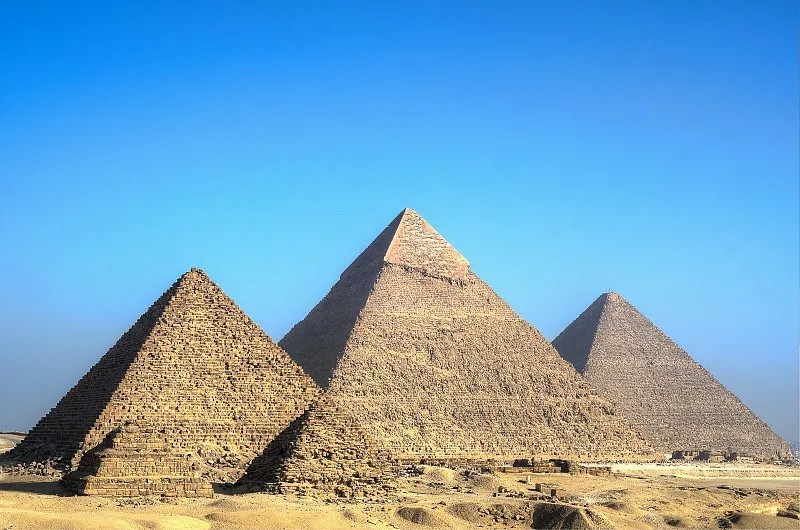Pyramid: (279, 207, 662, 463), (15, 268, 329, 468), (552, 291, 798, 461), (237, 395, 400, 493), (62, 420, 215, 500)
